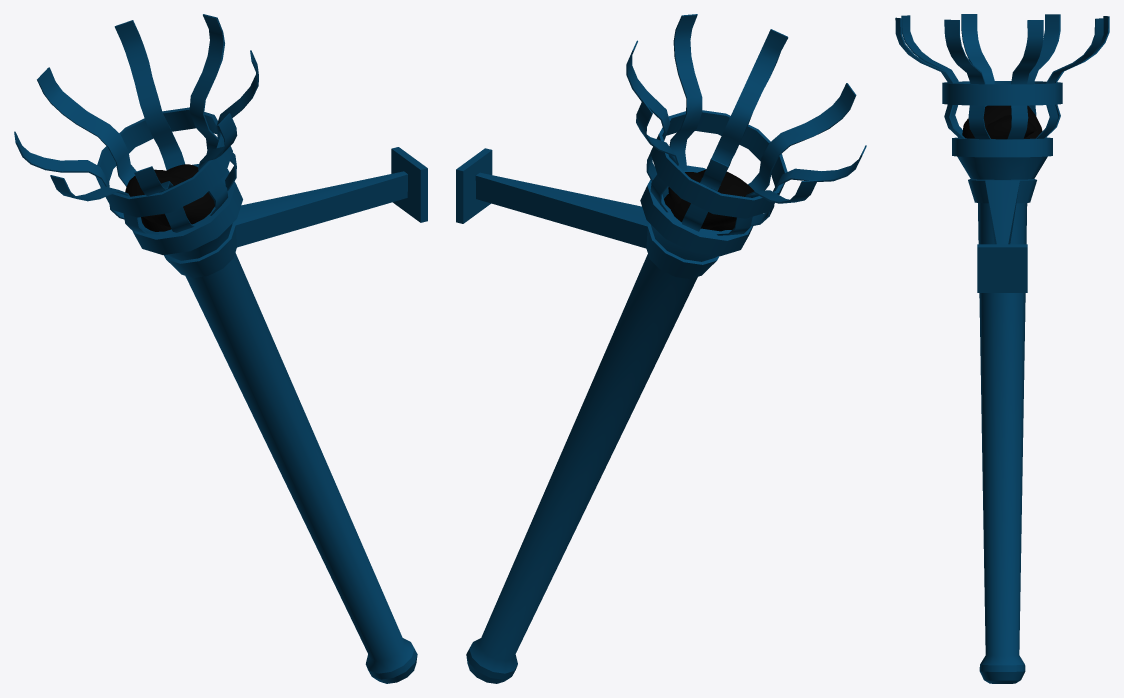
Rendered from uploads-files-746616-Torch.fbx.
The picture shows the model from 3 angles, left to right: view 1: azimuth 30°, elevation 25°; view 2: azimuth 150°, elevation 25°; view 3: azimuth 270°, elevation 25°; orthographic projection. The views are drawn at different scales.
Parts seen in each view (by area): view 1: Sphere_1; view 2: Sphere_1; view 3: Sphere_1.
Part boxes in pixels (bbox=[...]): Sphere_1: bbox=[14, 14, 427, 683]; Sphere_1: bbox=[456, 14, 866, 683]; Sphere_1: bbox=[895, 14, 1109, 683].
Bounding box in the file's own units: 44.89 × 78.22 × 25.38.
